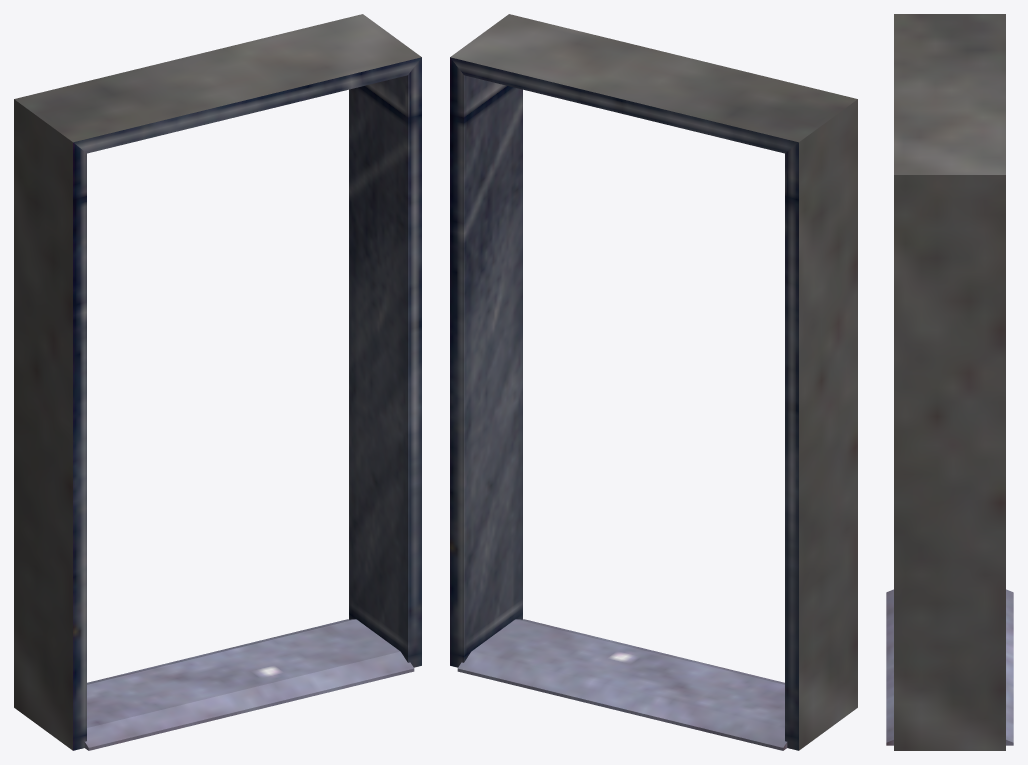
Rendered from SM_BLD_FRAME_03.fbx.
The picture shows the model from 3 angles, left to right: view 1: azimuth 30°, elevation 25°; view 2: azimuth 150°, elevation 25°; view 3: azimuth 270°, elevation 25°; orthographic projection. The views are drawn at different scales.
Parts seen in each view (by area): view 1: SM_BLD_FRAME_03; view 2: SM_BLD_FRAME_03; view 3: SM_BLD_FRAME_03.
Boxes of the visible parts, bbox=[...] form: SM_BLD_FRAME_03: bbox=[14, 14, 421, 750]; SM_BLD_FRAME_03: bbox=[450, 14, 857, 750]; SM_BLD_FRAME_03: bbox=[886, 14, 1013, 750].
Bounding box in the file's own units: 1.5 × 2.5 × 0.5.
